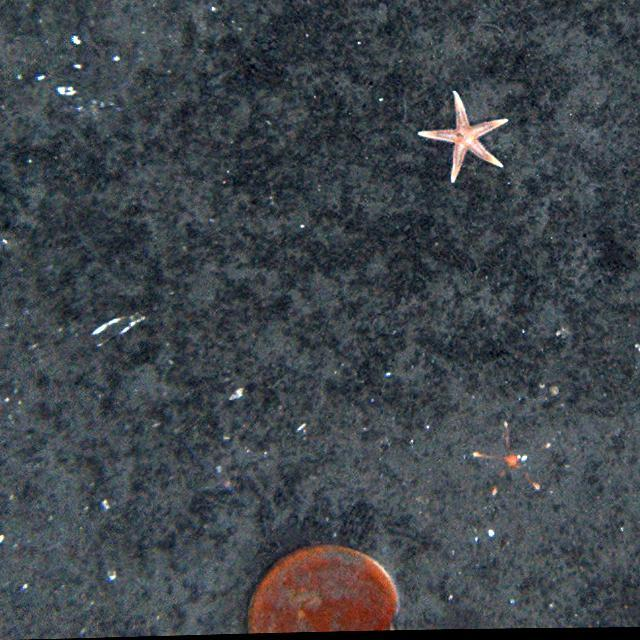scallop: (242, 542, 401, 630)
